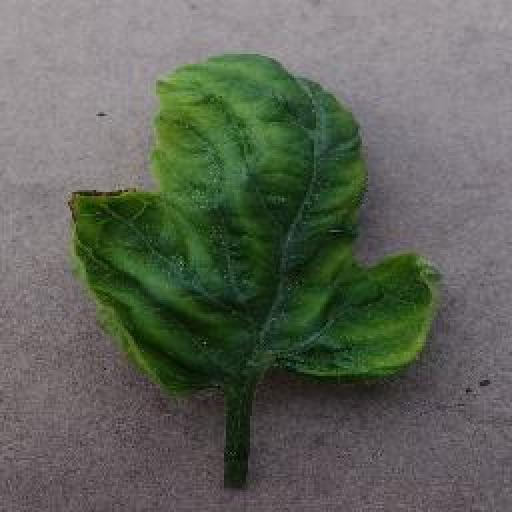disease_tomato: (71, 51, 440, 408)
